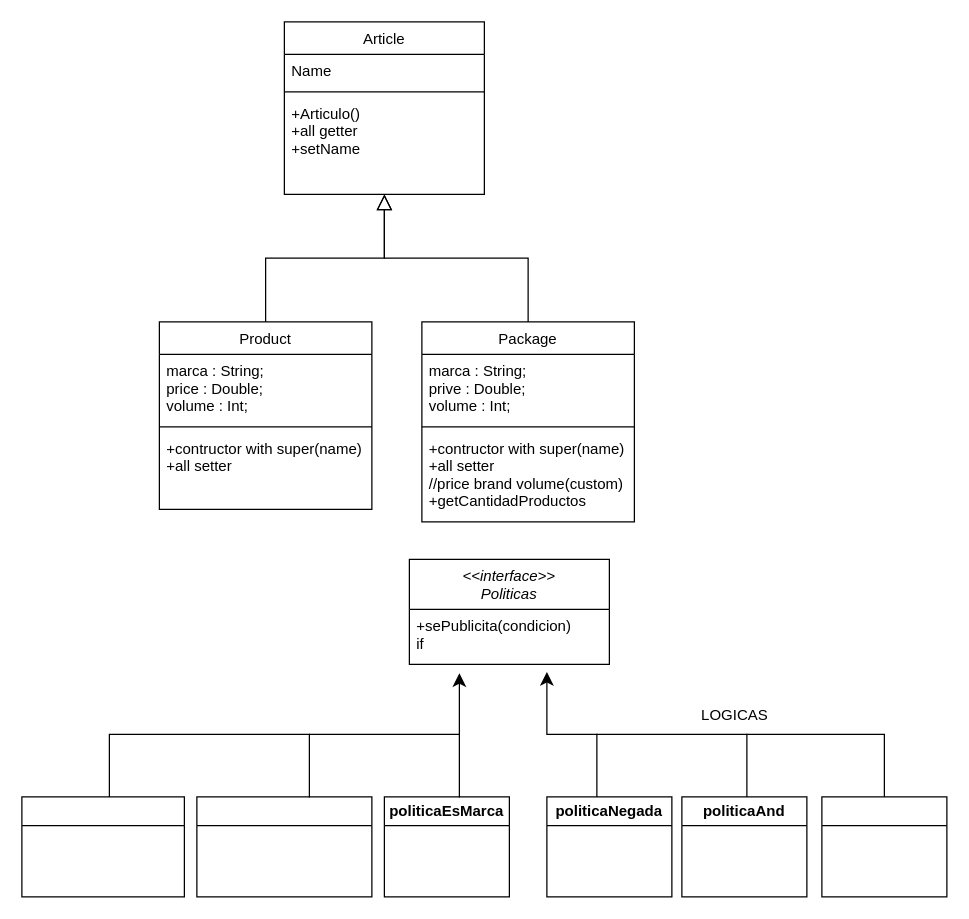
Image size: 969x919. Some labels were removed from this diagram. The shapes that lost their labels are listed below. From the top down, each one's centre as x and y in pixels, then its label:
At (102,846): "politicaPrecio".
At (284,846): "politicaVolumen".
At (884,846): "politicaOr".
